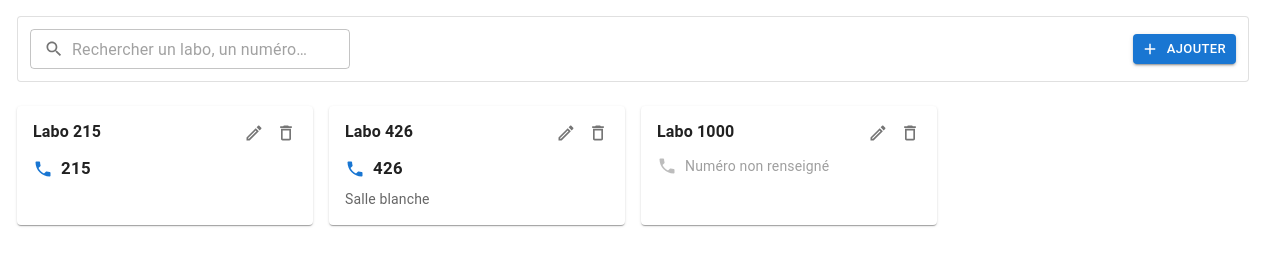
EquipeLaboratoiresPage › filtre les contacts via la recherche plein-texte (nom ou numéro)
Check: the heading "Labo 426" is shown, box [345,122,413,141]
Type "215" into the field named "Rechercher un contact de laboratoire".
click(211, 49); type("215")  # box [72,29,350,69]
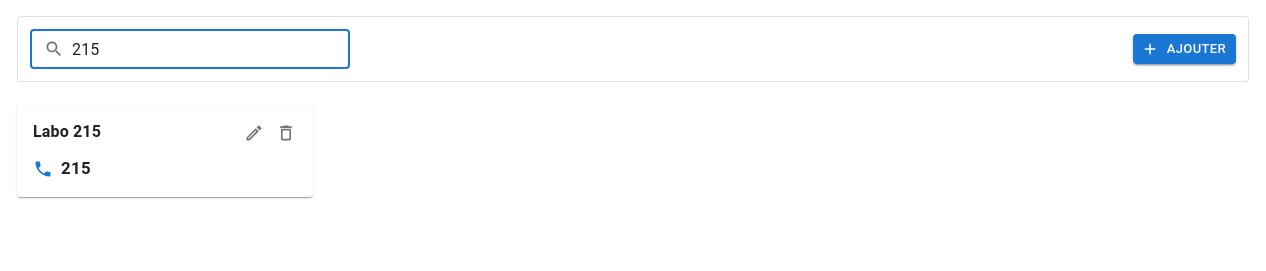
Check: the heading "Labo 215" is shown, box [33,122,101,141]
Check: the heading "Labo 426" is gone
Replace the text in the field named "Rechercher un contact de laboratoire" with "zzz-introuvable" at (211, 49), box [72,29,350,69]
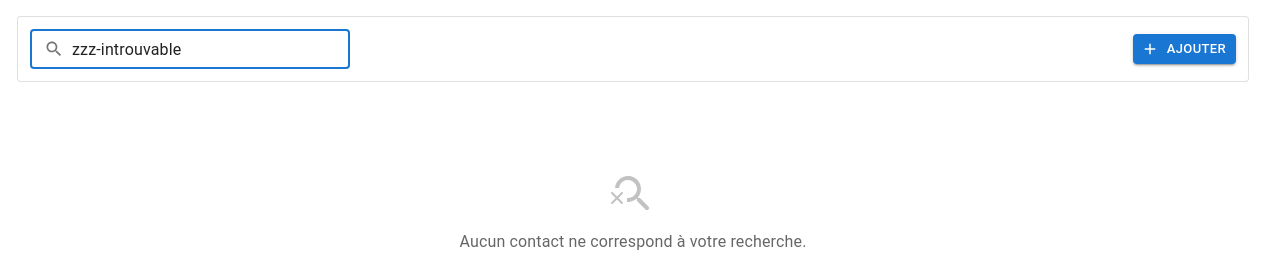
Check: the text "Aucun contact ne correspond à votre recherche." is shown, box [460,230,807,254]
